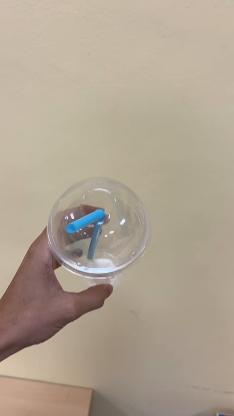Plastic Cup: (44, 177, 156, 281)
